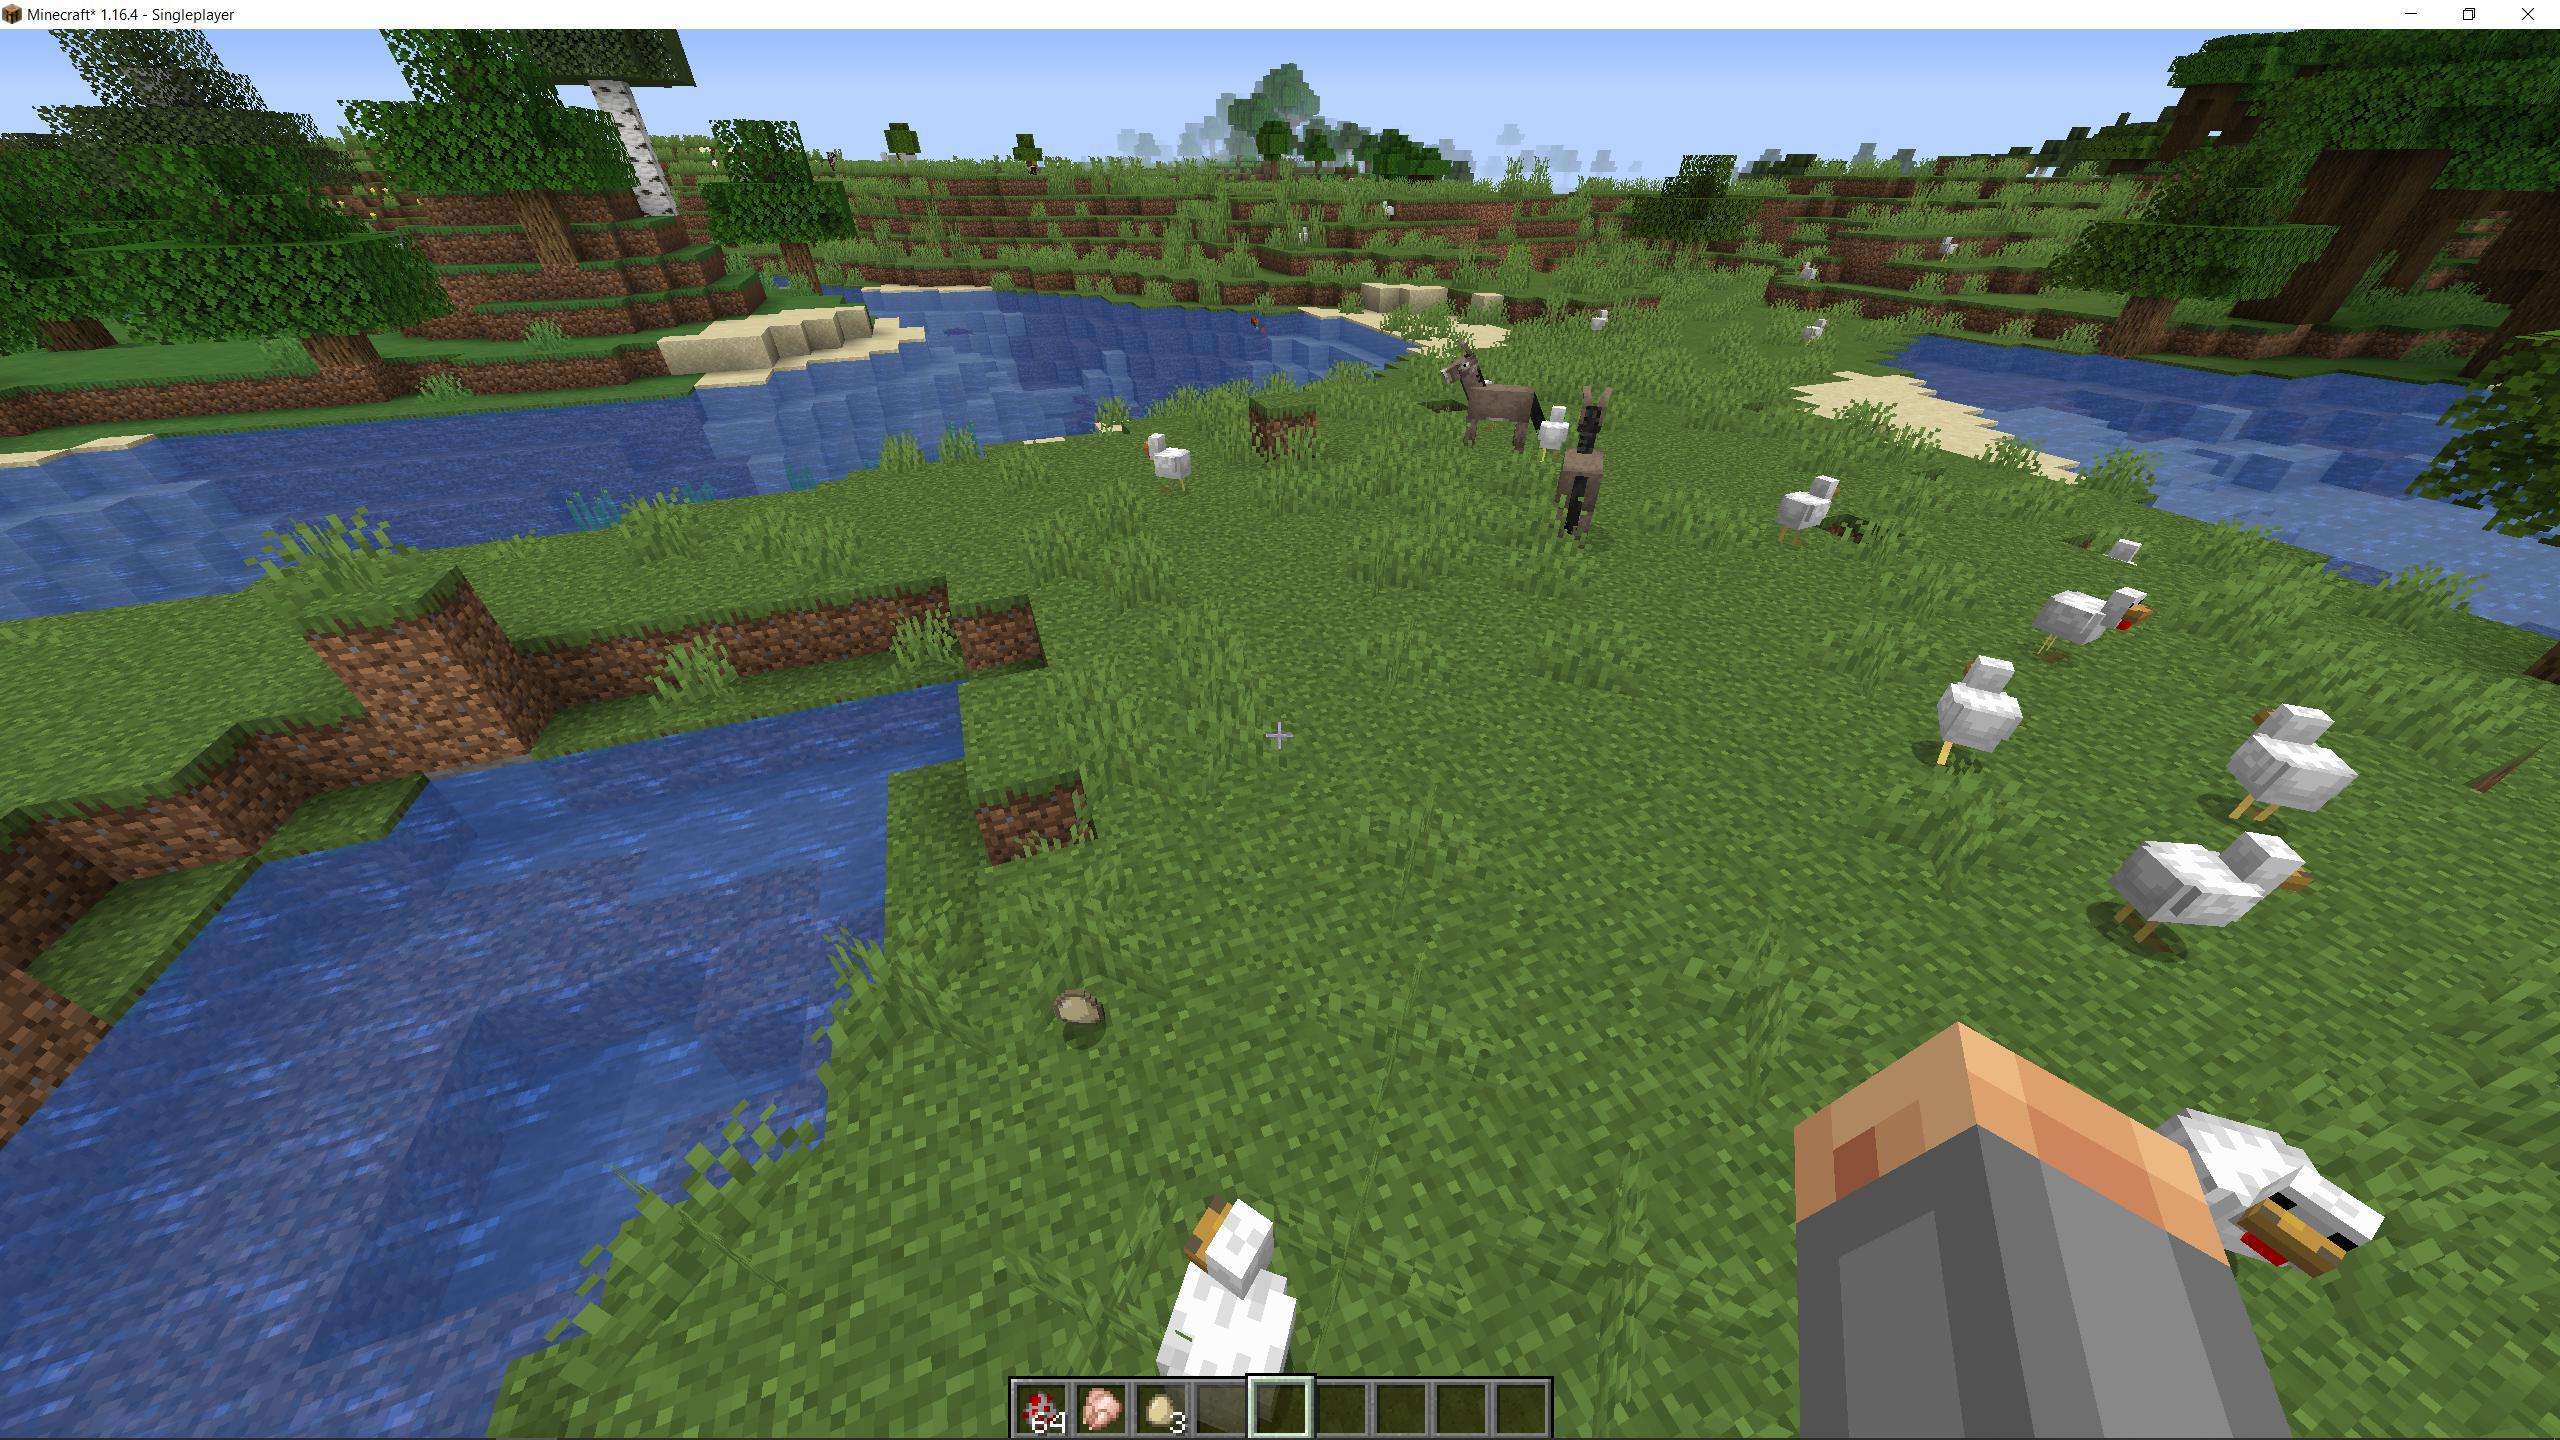chicken: (2115, 826, 2321, 948), (1925, 644, 2031, 782), (0, 724, 83, 874), (1210, 638, 1262, 726)
